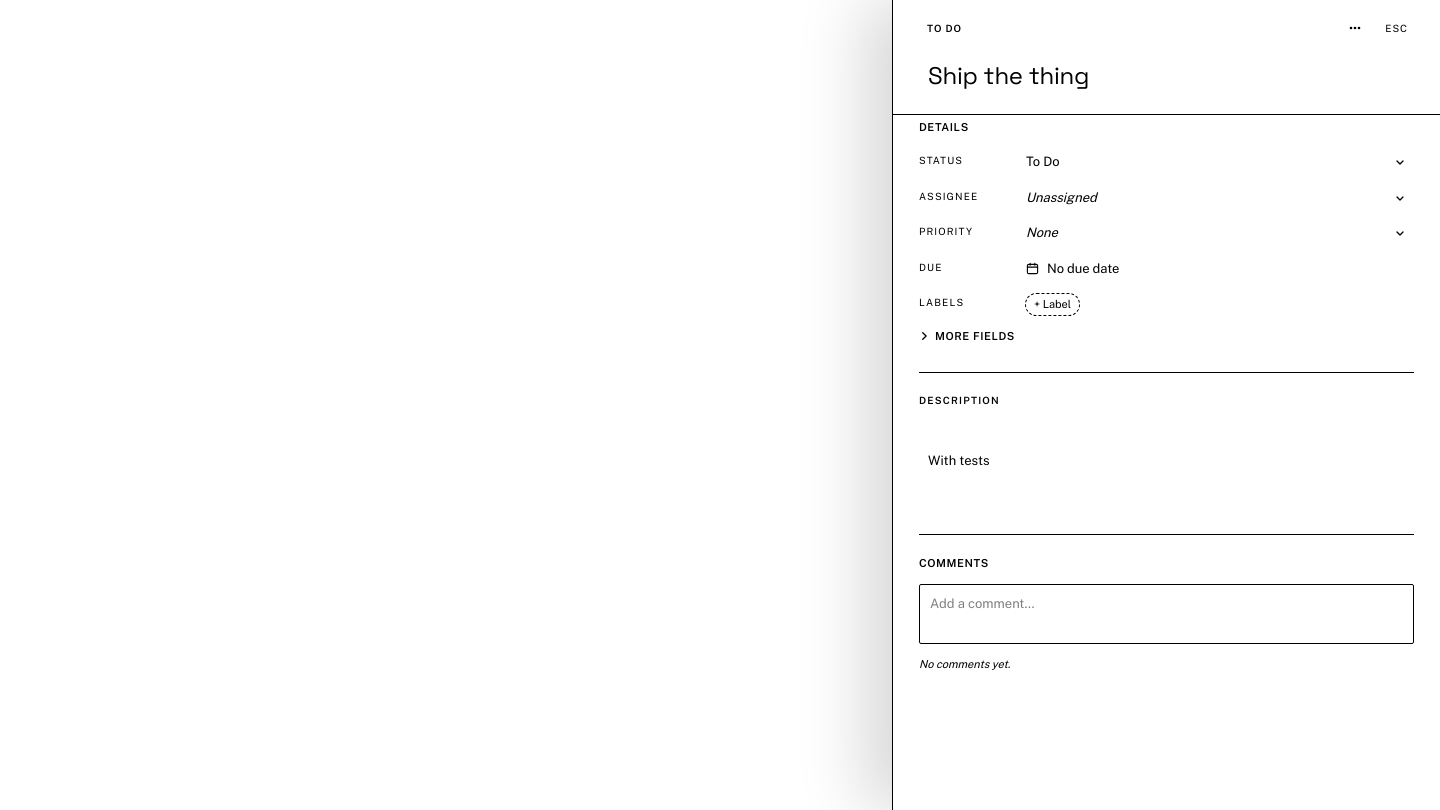
Test: CardDetailModal — labels › names the next action when the board has no labels yet (S2.3)
Click the button with aria-label "Add a label".
click(1053, 305)  # box [1025, 293, 1080, 316]
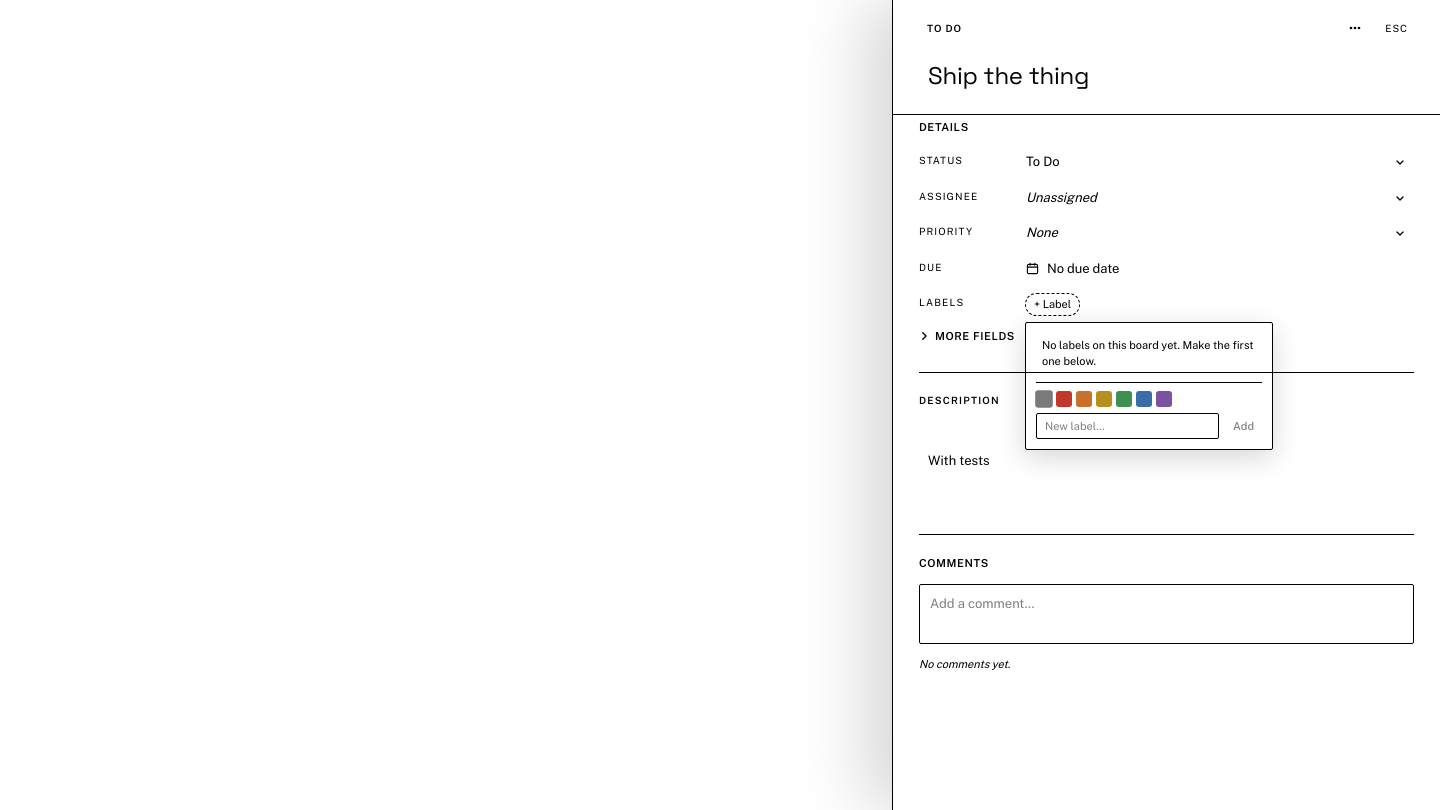
Expected: the text "No labels on this board yet. Make the first one below." is shown, [1036, 333, 1262, 374]
